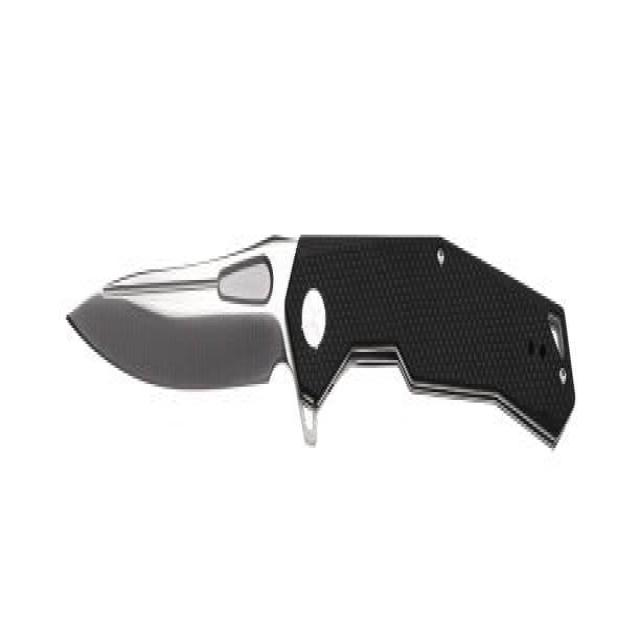knife: (65, 229, 580, 457)
